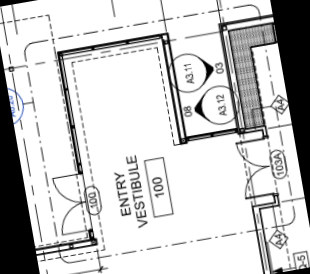double door: (233, 135, 278, 202), (50, 170, 91, 238)
